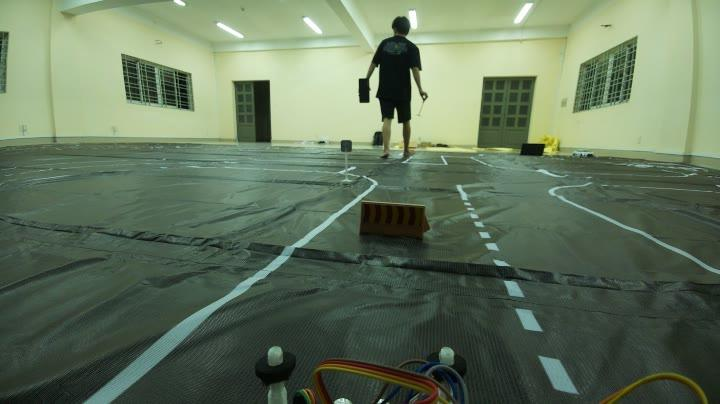roadblock: (356, 200, 437, 245)
